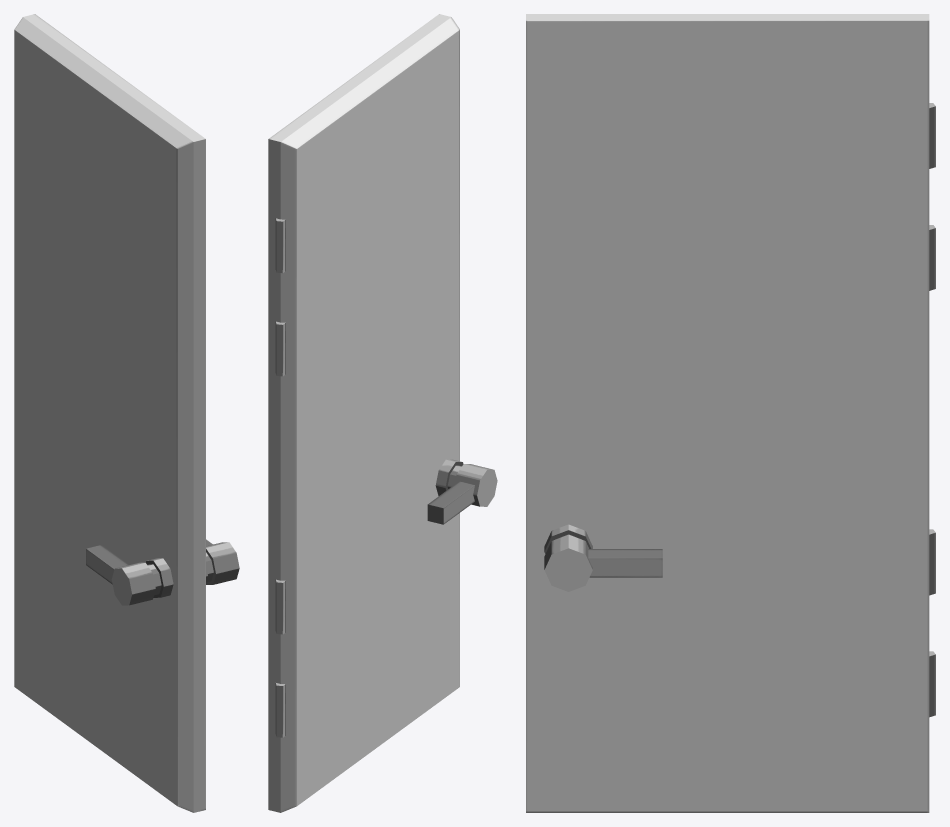
Rendered from office_pack_demoRoom_door_2.fbx.
3 views of the same model, side by side, from view 1: azimuth 30°, elevation 25°; view 2: azimuth 150°, elevation 25°; view 3: azimuth 270°, elevation 25° (orthographic). The views are drawn at different scales.
Parts seen in each view (by area): view 1: office_pack_demoRoom_door_2, office_pack_demoRoom_door_2_handle; view 2: office_pack_demoRoom_door_2, office_pack_demoRoom_door_2_handle; view 3: office_pack_demoRoom_door_2, office_pack_demoRoom_door_2_handle.
Boxes of the visible parts, box(x1,y1,x2,y2) form: office_pack_demoRoom_door_2: box(14, 14, 205, 812); office_pack_demoRoom_door_2_handle: box(86, 539, 239, 605); office_pack_demoRoom_door_2: box(268, 14, 459, 812); office_pack_demoRoom_door_2_handle: box(427, 459, 497, 524); office_pack_demoRoom_door_2: box(526, 14, 935, 812); office_pack_demoRoom_door_2_handle: box(544, 524, 662, 591).
Size of the model in its own units: 21.8 by 130 by 60.95.
